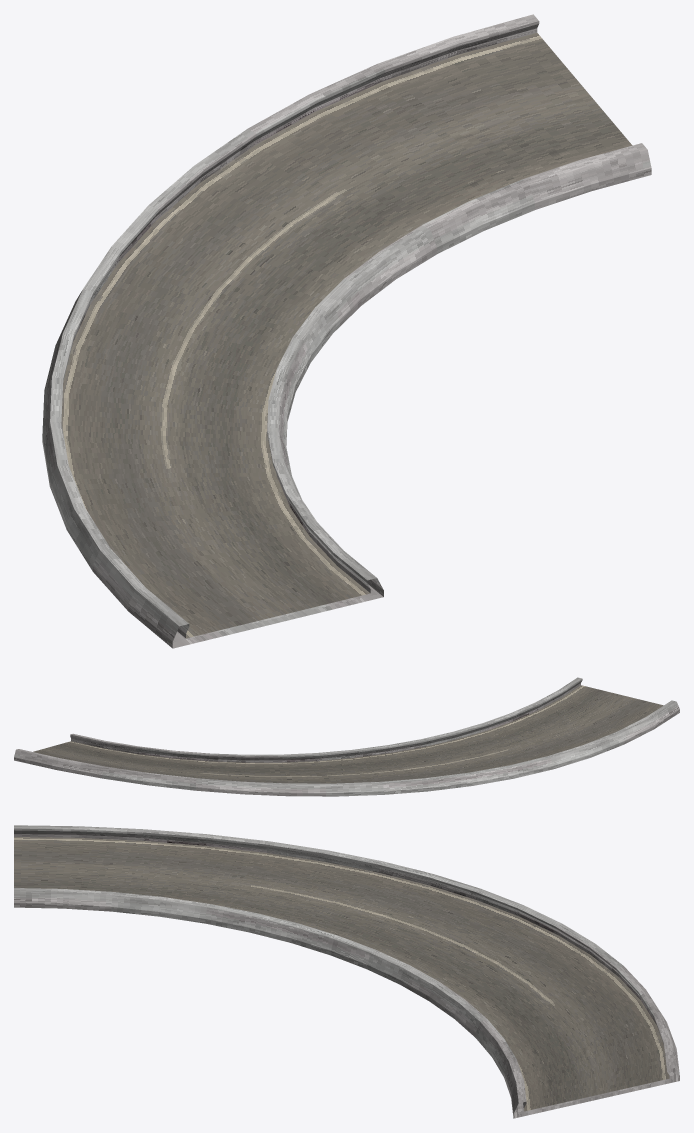
File: road-Turn-Flat-HalfBankedRight-Even-Right-Size4.glb
3 renders of one model, top to bottom at view 1: azimuth 30°, elevation 25°; view 2: azimuth 150°, elevation 25°; view 3: azimuth 270°, elevation 25°, orthographic. The views are drawn at different scales.
Visible parts, largest first — view 1: road-Turn-Flat-HalfBankedRight-Even-Right-Size4; view 2: road-Turn-Flat-HalfBankedRight-Even-Right-Size4; view 3: road-Turn-Flat-HalfBankedRight-Even-Right-Size4.
Part boxes in pixels (left/top/right/bottom): road-Turn-Flat-HalfBankedRight-Even-Right-Size4: left=42, top=14, right=651, bottom=648; road-Turn-Flat-HalfBankedRight-Even-Right-Size4: left=14, top=677, right=679, bottom=796; road-Turn-Flat-HalfBankedRight-Even-Right-Size4: left=14, top=825, right=679, bottom=1118.
Bounding box in the file's own units: 4 × 0.3359 × 4.
2 materials, 2 textured.
